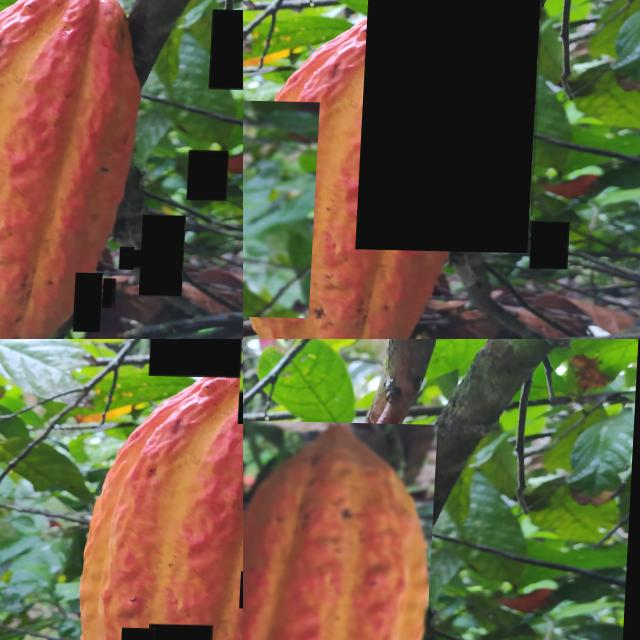Sana: (360, 0, 545, 250), (243, 418, 440, 640), (243, 97, 322, 316), (144, 213, 190, 294), (151, 339, 243, 376), (211, 7, 243, 87), (191, 148, 232, 198), (534, 219, 574, 266), (79, 271, 108, 330), (125, 626, 159, 640), (132, 248, 154, 267), (108, 276, 121, 306), (124, 245, 139, 268)
